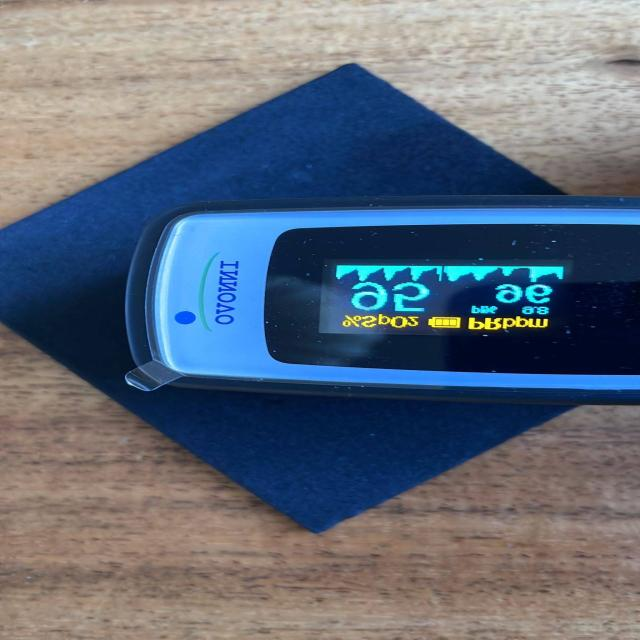spo2: (7, 193, 640, 407)
